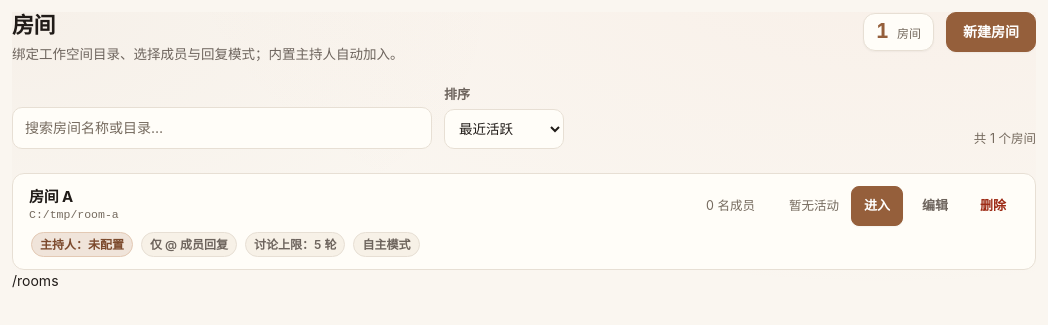
Test: RoomsPage 右键菜单 › 进入房间走路由导航
Step 1. Right-click the list item "房间 A" → (524, 221), box [12,173,1036,270]
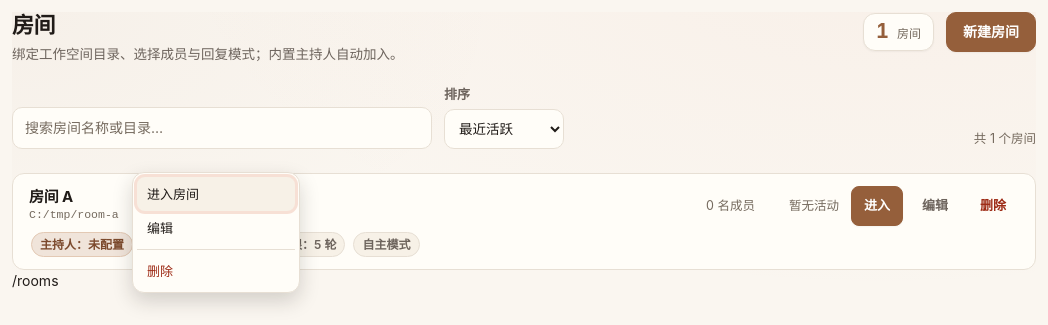
Step 2. Click the menu item "进入房间" → (216, 194), box [137,177,295,211]
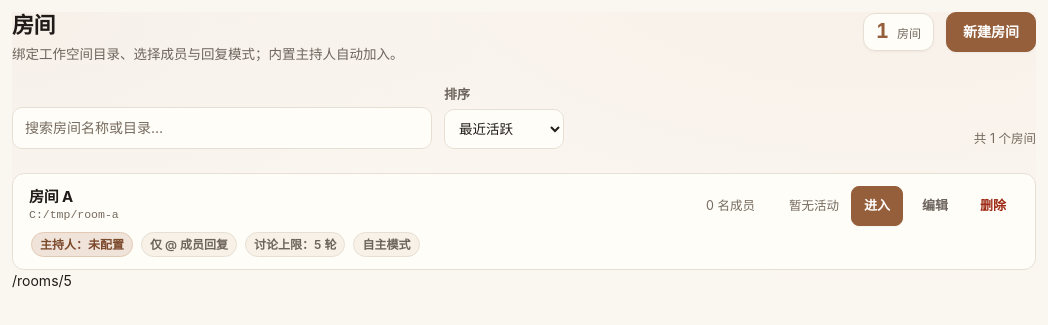
Expected: the text with test id "location" reads "/rooms/5", [12,272,72,289]
